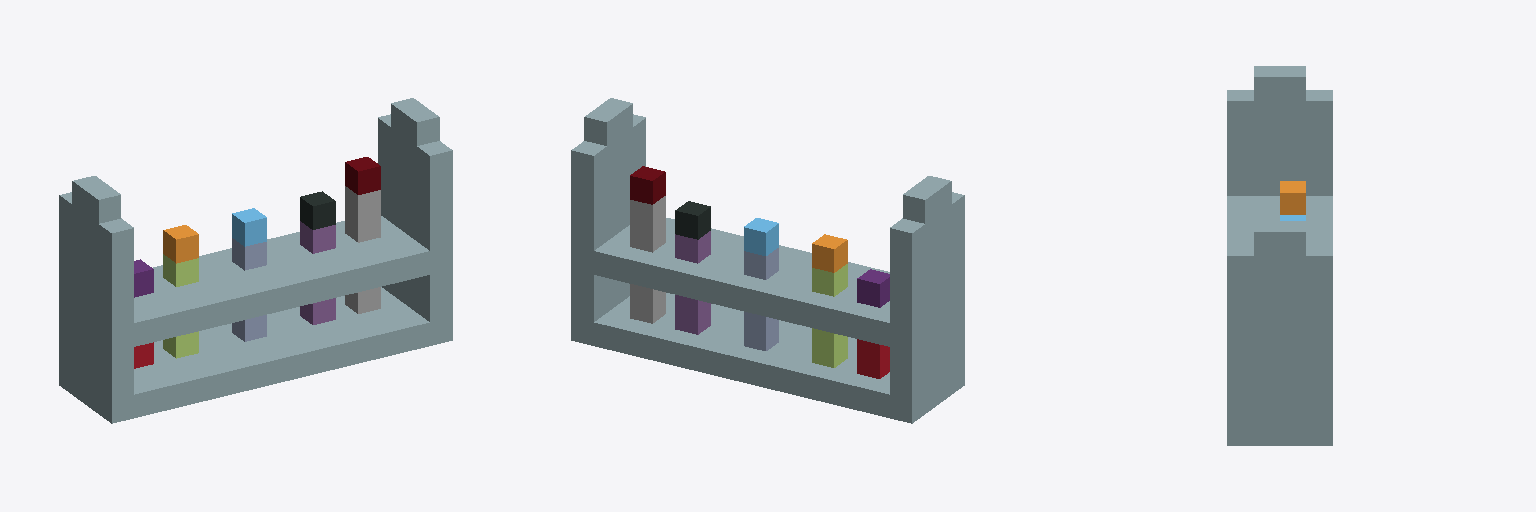
3 renders of one model, left to right at view 1: azimuth 30°, elevation 25°; view 2: azimuth 150°, elevation 25°; view 3: azimuth 270°, elevation 25°, orthographic.
Parts seen in each view (by area): view 1: StandWithFlasks2; view 2: StandWithFlasks2; view 3: StandWithFlasks2.
Part boxes in pixels (x1,y1,x2,y2): StandWithFlasks2: (59, 98, 452, 423); StandWithFlasks2: (571, 98, 964, 423); StandWithFlasks2: (1227, 66, 1332, 445).
Size of the model in its own units: 1.5 by 0.9 by 0.4.
1 materials, 1 textured.